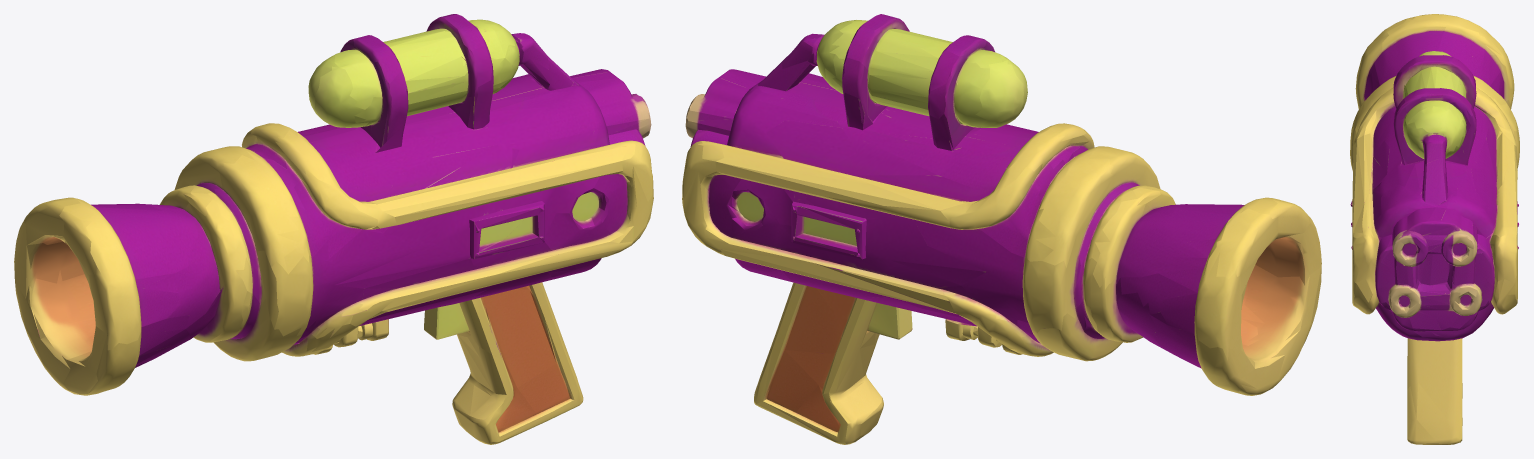
Rendered from Vacuum_Titan.glb.
The picture shows the model from 3 angles, left to right: view 1: azimuth 30°, elevation 25°; view 2: azimuth 150°, elevation 25°; view 3: azimuth 270°, elevation 25°; orthographic projection. The views are drawn at different scales.
Bounding box in the file's own units: 1.9 × 1.35 × 0.6296.
1 material, 1 textured.
